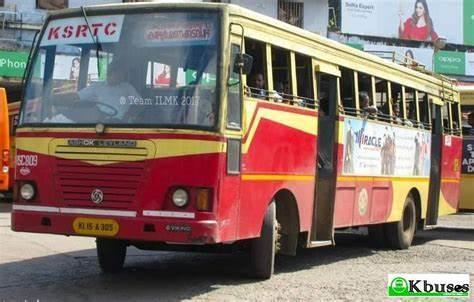Bus: (12, 2, 462, 279)
